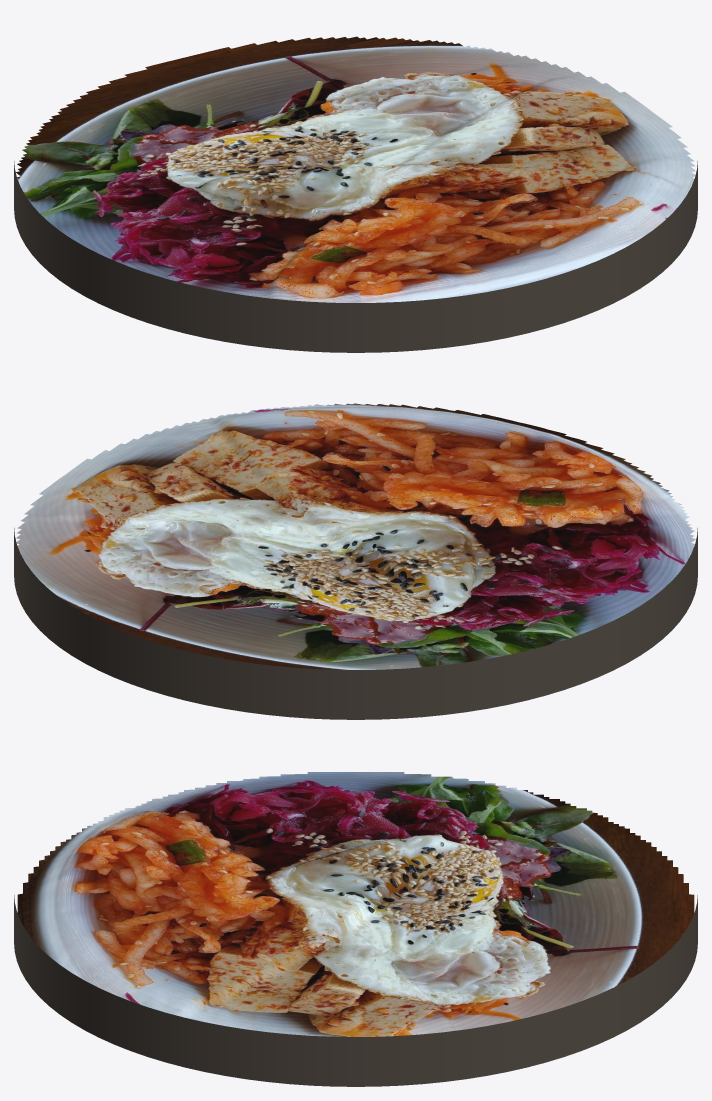
The model's file is plato.glb.
3 renders of one model, top to bottom at view 1: azimuth 30°, elevation 25°; view 2: azimuth 150°, elevation 25°; view 3: azimuth 270°, elevation 25°, orthographic.
Size of the model in its own units: 0.2985 by 0.024 by 0.2985.
2 materials, 1 textured.
